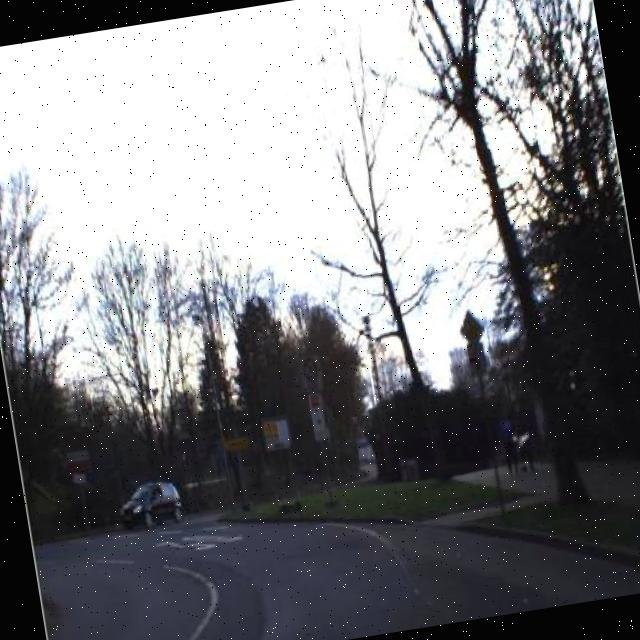Ograniczenie predkosci do 30: (300, 354, 321, 384)
